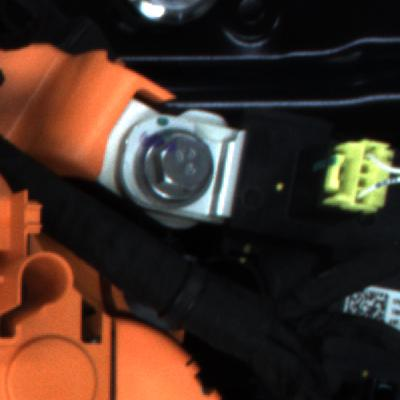nut_b: (121, 122, 222, 210)
